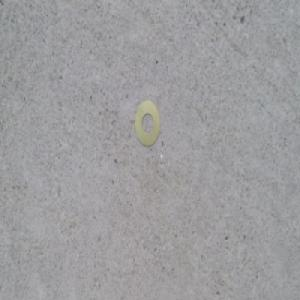Washer: (134, 97, 162, 148)
